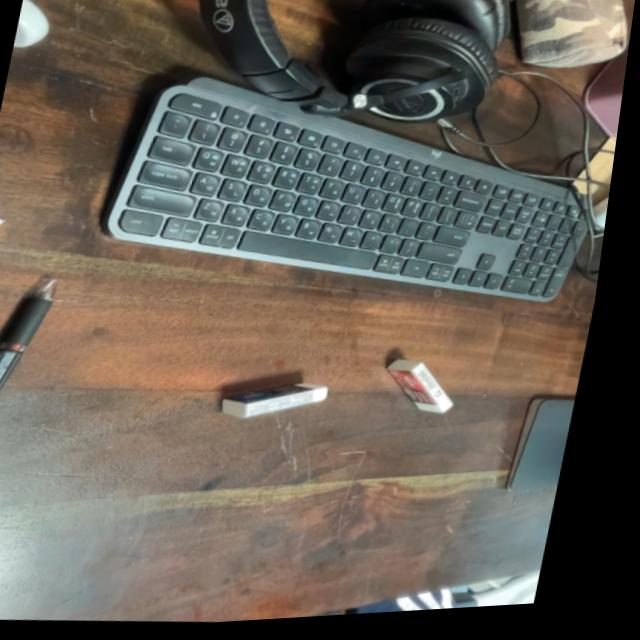blue: (207, 367, 354, 442)
red: (371, 350, 496, 433)
